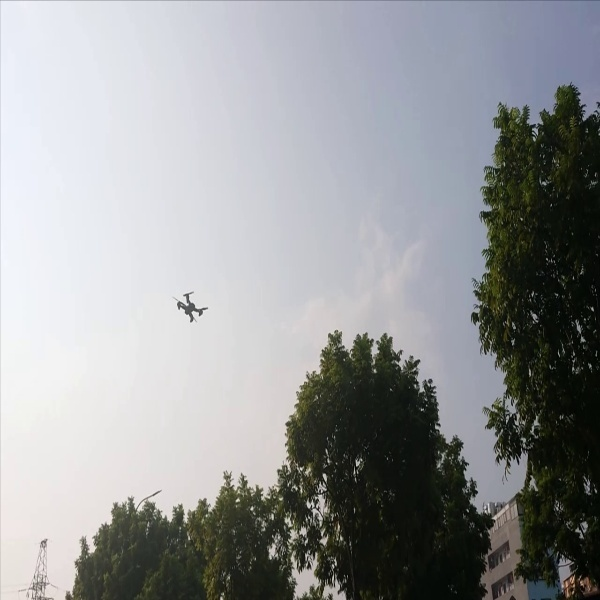drone: (170, 285, 209, 327)
